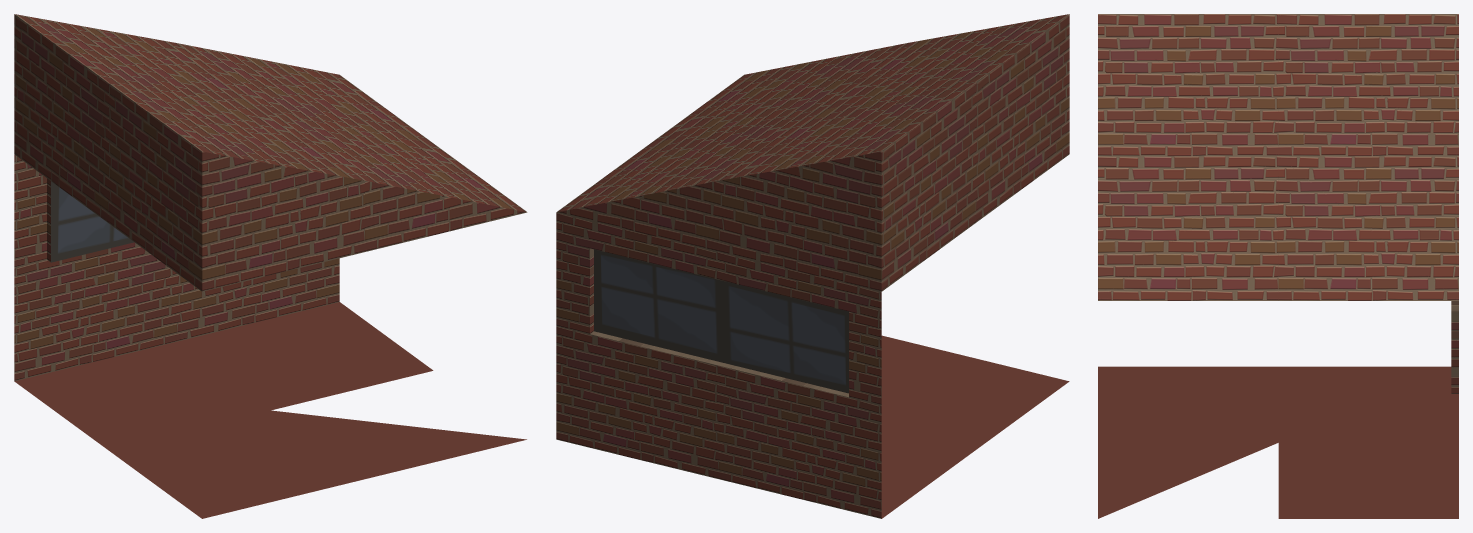
Rendered from Bock_A4(0).fbx.
The picture shows the model from 3 angles, left to right: view 1: azimuth 30°, elevation 25°; view 2: azimuth 150°, elevation 25°; view 3: azimuth 270°, elevation 25°; orthographic projection. The views are drawn at different scales.
Parts seen in each view (by area): view 1: Bock_A4; view 2: Bock_A4; view 3: Bock_A4.
Part boxes in pixels (box(x1,y1,x2,y2)): Bock_A4: box(14, 14, 527, 518); Bock_A4: box(556, 14, 1069, 518); Bock_A4: box(1098, 14, 1458, 518).
Bounding box in the file's own units: 600 × 647 × 600.
